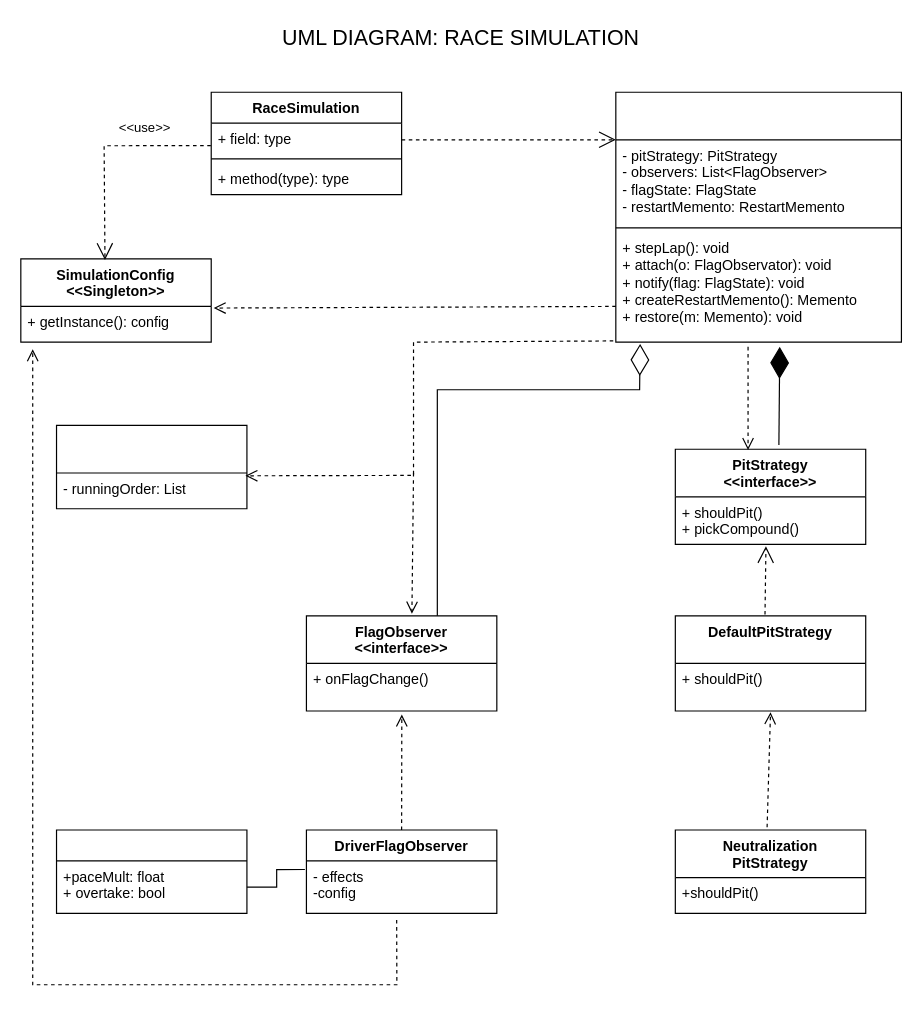
Some shapes in this 922 by 1017 pixel diagram are drawn without their labels. The box of each missing label's shape, as (x1, y1, x2, y2) in pixels:
DriverRaceEffects: (55, 829, 247, 913)
RaceSimulation <<Subject, Originator>>: (615, 91, 901, 342)
RestartMemento <<Memento>>: (55, 424, 247, 509)
